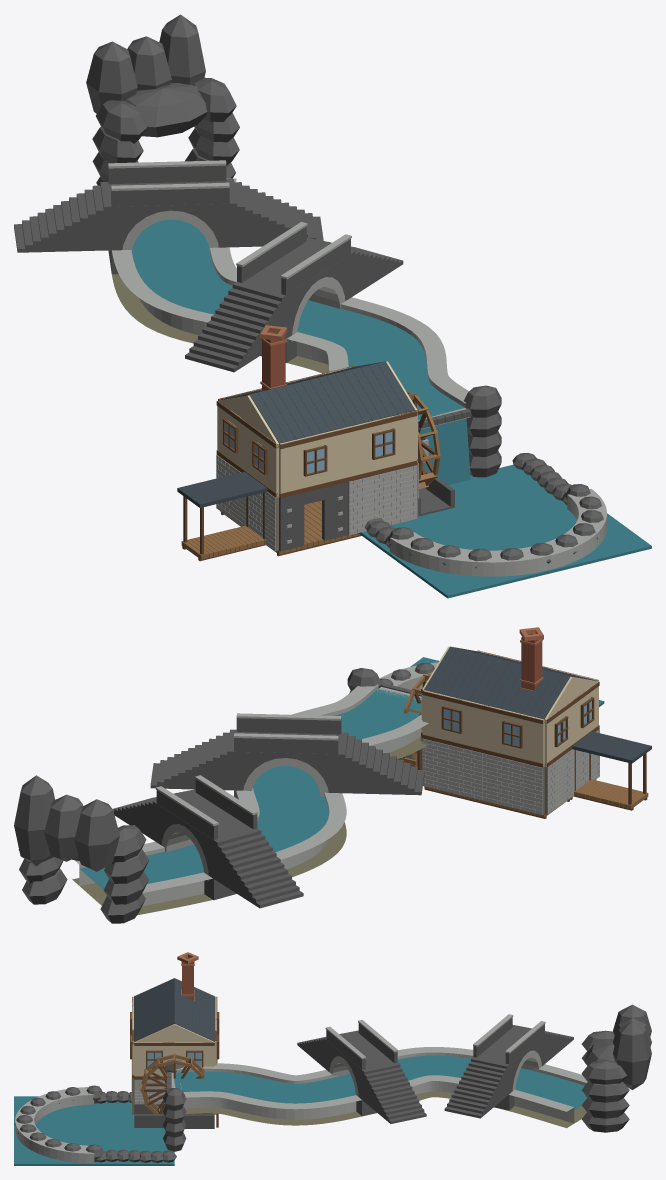
File: B_assembly.glb
3 views of the same model, one above another, from view 1: azimuth 30°, elevation 25°; view 2: azimuth 150°, elevation 25°; view 3: azimuth 270°, elevation 25° (orthographic). The views are drawn at different scales.
Parts seen in each view (by area): view 1: Mountain river mouth, WATER_PREVIEW_POOL pool, WATER_PREVIEW_RIVER water, Stone stairs full story.002, Stone stairs full story.004, Plunge pool rock surround, Mill covered passage.001, Mill workshop roof half.004, Mill workshop roof half.006, Stone stairs full story.005, Mill stone wall.008, Mill timber upper wall.008 (+27 smaller); view 2: Mountain river mouth, WATER_PREVIEW_RIVER water, Stone stairs full story.004, Stone stairs full story.002, Stone stairs full story.003, Mill covered passage.001, Mill workshop roof half.007, Mill stone wall.007, Mill stone wall.009, Mill workshop roof half.005, Mill timber upper wall.009, Mill timber upper wall.011 (+24 smaller); view 3: WATER_PREVIEW_RIVER water, Mountain river mouth, WATER_PREVIEW_POOL pool, Canal bank fitted canal wall.001, Stone stairs full story.005, Stone stairs full story.003, River bed channel bed, Canal bank fitted coping.001, Plunge pool rock surround.001, Canal bank fitted coping, Plunge pool rock surround, Waterfall side cliff.001 (+23 smaller).
Part boxes in pixels (x1,y1,x2,y2): Mountain river mouth: (86, 14, 239, 185); WATER_PREVIEW_POOL pool: (359, 464, 651, 598); WATER_PREVIEW_RIVER water: (132, 219, 464, 420); Stone stairs full story.002: (185, 282, 286, 372); Stone stairs full story.004: (14, 182, 111, 252); Plunge pool rock surround: (388, 527, 553, 576); Mill covered passage.001: (177, 471, 267, 561); Mill workshop roof half.004: (249, 378, 347, 443); Mill workshop roof half.006: (318, 361, 415, 426); Stone stairs full story.005: (226, 178, 323, 247); Mill stone wall.008: (348, 465, 417, 535); Mill timber upper wall.008: (279, 427, 348, 498); Mountain river mouth: (14, 775, 149, 923); WATER_PREVIEW_RIVER water: (80, 688, 421, 889); Stone stairs full story.004: (214, 828, 303, 908); Stone stairs full story.002: (338, 732, 424, 795); Stone stairs full story.003: (150, 729, 236, 790); Mill covered passage.001: (572, 731, 651, 810); Mill workshop roof half.007: (424, 646, 509, 704); Mill stone wall.007: (482, 753, 544, 814); Mill stone wall.009: (422, 738, 482, 800); Mill workshop roof half.005: (484, 661, 570, 719); Mill timber upper wall.009: (482, 704, 544, 767); Mill timber upper wall.011: (422, 690, 483, 752); WATER_PREVIEW_RIVER water: (174, 1055, 587, 1109); Mountain river mouth: (581, 1004, 651, 1132); WATER_PREVIEW_POOL pool: (14, 1096, 174, 1165); Canal bank fitted canal wall.001: (183, 1081, 574, 1123); Stone stairs full story.005: (444, 1057, 509, 1118); Stone stairs full story.003: (362, 1062, 426, 1123); River bed channel bed: (185, 1091, 586, 1128); Canal bank fitted coping.001: (183, 1075, 573, 1111); Plunge pool rock surround.001: (14, 1115, 103, 1163); Canal bank fitted coping: (176, 1047, 587, 1082); Plunge pool rock surround: (15, 1085, 103, 1124); Waterfall side cliff.001: (163, 1088, 186, 1151).
Bounding box in the file's own units: 22.5 × 11.75 × 47.66.
